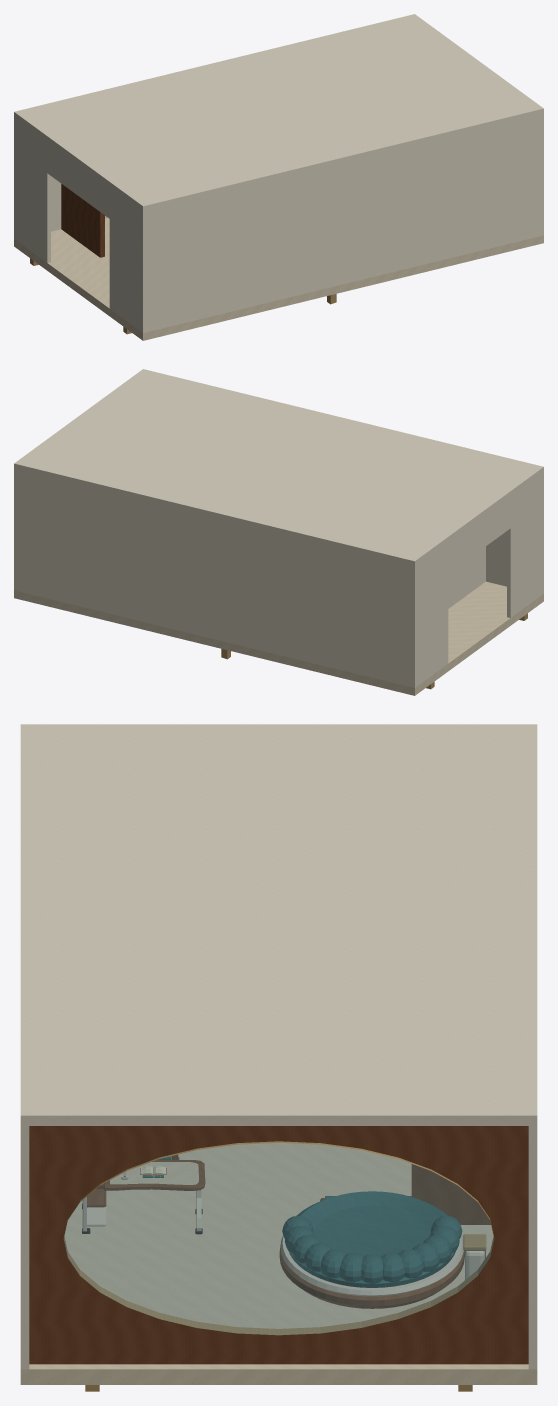
Rendered from StarAtlasSpecialty_467.glb.
The picture shows the model from 3 angles, top to bottom: view 1: azimuth 30°, elevation 25°; view 2: azimuth 150°, elevation 25°; view 3: azimuth 270°, elevation 25°; orthographic projection. The views are drawn at different scales.
Parts seen in each view (by area): view 1: SA467_Ceiling, SA467_SouthSide, SA467_RoomFloor, SA467_EntryShoulderNorth, SA467_EntryShoulderSouth, SA467_EntryHeader, SA467_EntryPrivacyDogleg, SA467_NorthSide; view 2: SA467_Ceiling, SA467_NorthSide, SA467_RoomFloor, SA467_EntryShoulderSouth, SA467_EntryShoulderNorth, SA467_EntryHeader, SA467_WashEntrySide, SA467_SouthSide; view 3: SA467_Ceiling, SA467_OvalAtriumGlass, SA467_OvalWindowReveal, SA467_RoomFloor, SA467_ReservedRestSupport__NestContouredSupport, SA467_ReservedRestSupport, SA467_OvalDepthReturn, SA467_NorthSide, SA467_SouthSide, SA467_LowRestBookPrivacyReturn, SA467_ReservedRestSupport__NestWeightedPlinth, SA467_ReservedRestSupport__NestEnamelRim (+2 smaller).
Part boxes in pixels (<box>): SA467_Ceiling: <box>14,14,543,211</box>; SA467_SouthSide: <box>141,114,543,332</box>; SA467_RoomFloor: <box>14,218,543,340</box>; SA467_EntryShoulderNorth: <box>16,119,50,262</box>; SA467_EntryShoulderSouth: <box>109,187,140,331</box>; SA467_EntryHeader: <box>47,141,110,219</box>; SA467_EntryPrivacyDogleg: <box>61,184,104,257</box>; SA467_NorthSide: <box>14,117,107,239</box>; SA467_Ceiling: <box>14,369,543,566</box>; SA467_NorthSide: <box>14,469,416,687</box>; SA467_RoomFloor: <box>14,581,543,695</box>; SA467_EntryShoulderSouth: <box>507,474,541,617</box>; SA467_EntryShoulderNorth: <box>417,543,448,686</box>; SA467_EntryHeader: <box>447,496,511,574</box>; SA467_WashEntrySide: <box>448,546,485,608</box>; SA467_SouthSide: <box>486,472,543,594</box>; SA467_Ceiling: <box>20,724,537,1125</box>; SA467_OvalAtriumGlass: <box>64,1143,493,1334</box>; SA467_OvalWindowReveal: <box>29,1126,528,1364</box>; SA467_RoomFloor: <box>20,1143,537,1384</box>; SA467_ReservedRestSupport__NestContouredSupport: <box>289,1191,455,1287</box>; SA467_ReservedRestSupport: <box>282,1216,462,1283</box>; SA467_OvalDepthReturn: <box>63,1141,494,1335</box>; SA467_NorthSide: <box>528,1126,537,1369</box>; SA467_SouthSide: <box>20,1126,29,1369</box>; SA467_LowRestBookPrivacyReturn: <box>411,1164,490,1224</box>; SA467_ReservedRestSupport__NestWeightedPlinth: <box>279,1245,464,1308</box>; SA467_ReservedRestSupport__NestEnamelRim: <box>280,1236,463,1296</box>.
Size of the model in its own units: 12.9 by 4.91 by 7.2.
52 materials, 46 textured.
